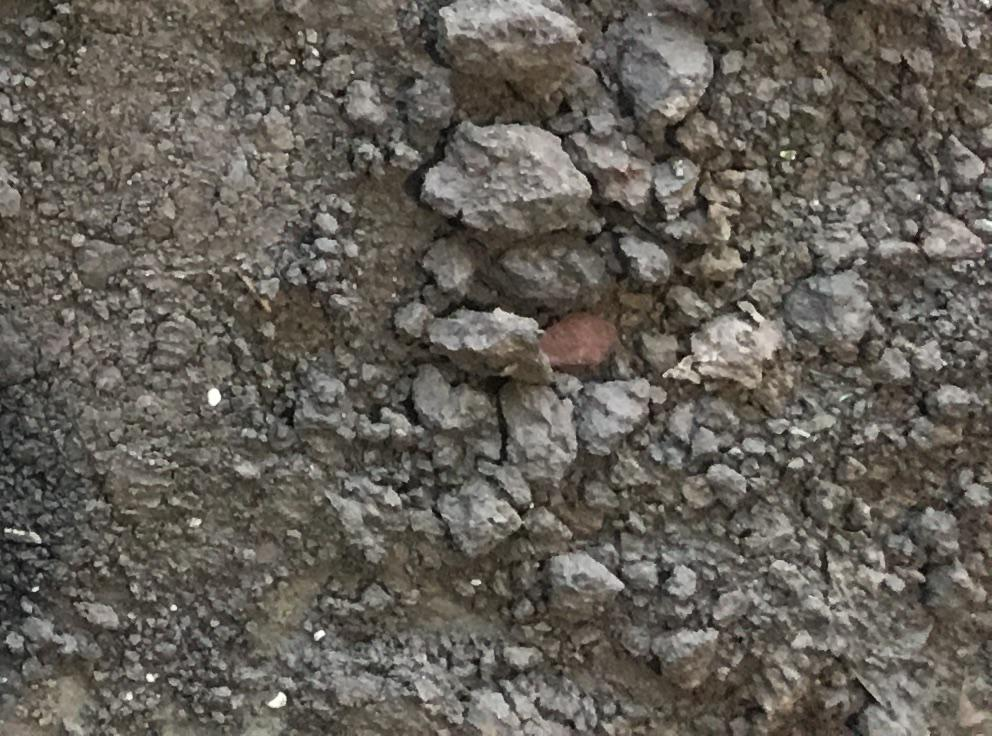block: (420, 120, 599, 238), (439, 2, 584, 99), (417, 300, 567, 384), (619, 16, 715, 136), (488, 244, 620, 313), (432, 473, 528, 562), (785, 269, 867, 363), (554, 548, 624, 625)
